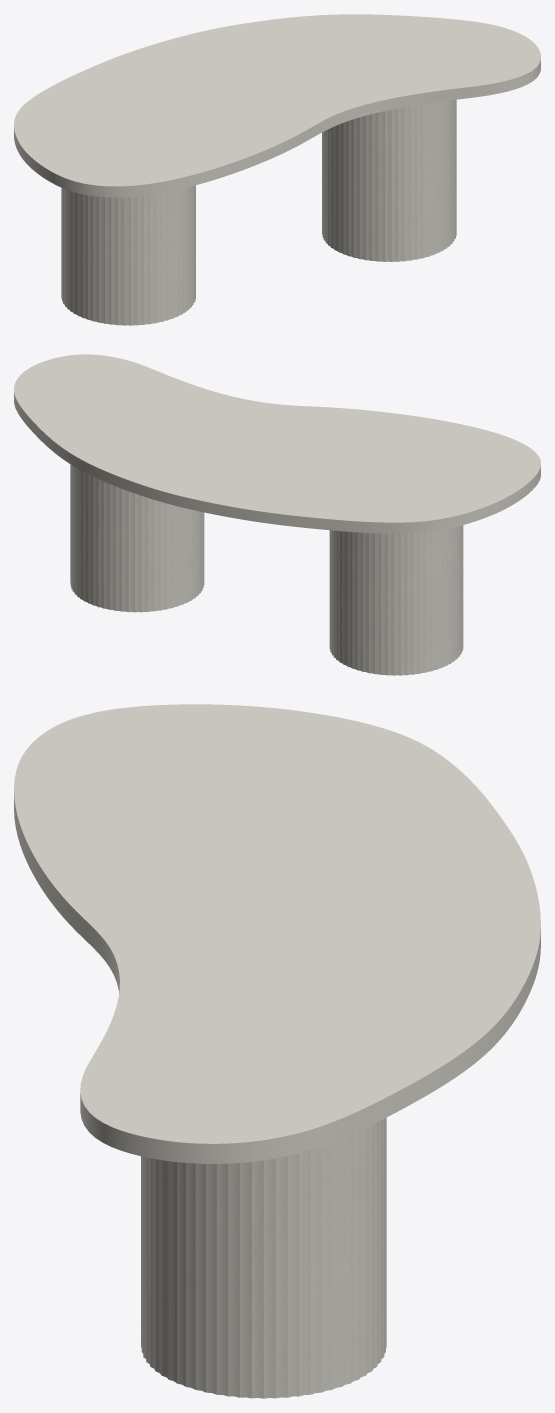
The model's file is pale_leaf1_standard_ripplesecond.glb.
3 renders of one model, top to bottom at view 1: azimuth 30°, elevation 25°; view 2: azimuth 150°, elevation 25°; view 3: azimuth 270°, elevation 25°, orthographic. The views are drawn at different scales.
Visible parts, largest first — view 1: standard_leaf1, ripplesecond; view 2: standard_leaf1, ripplesecond; view 3: standard_leaf1, ripplesecond.
Part boxes in pixels (left/top/right/bottom): standard_leaf1: left=14, top=14, right=540, bottom=197; ripplesecond: left=61, top=99, right=456, bottom=325; standard_leaf1: left=14, top=354, right=540, bottom=533; ripplesecond: left=70, top=464, right=463, bottom=675; standard_leaf1: left=14, top=704, right=540, bottom=1163; ripplesecond: left=141, top=1117, right=386, bottom=1398.
Bounding box in the file's own units: 7.5 × 2.51 × 3.8.
1 material, 1 textured.
